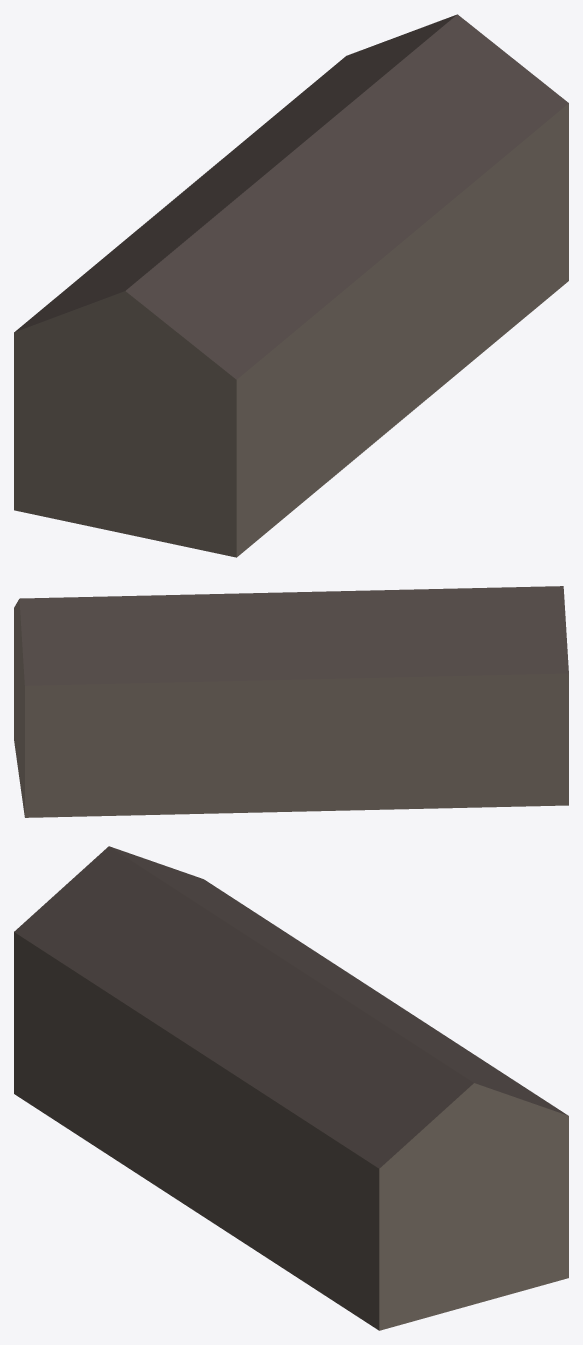
3 renders of one model, top to bottom at view 1: azimuth 30°, elevation 25°; view 2: azimuth 150°, elevation 25°; view 3: azimuth 270°, elevation 25°, orthographic. The views are drawn at different scales.
Parts seen in each view (by area): view 1: HP-w369237840; view 2: HP-w369237840; view 3: HP-w369237840.
Part boxes in pixels (x1,y1,x2,y2): HP-w369237840: (14,14,568,557); HP-w369237840: (14,586,568,817); HP-w369237840: (14,846,568,1330).
Bounding box in the file's own units: 34.5 × 12.3 × 27.94.
